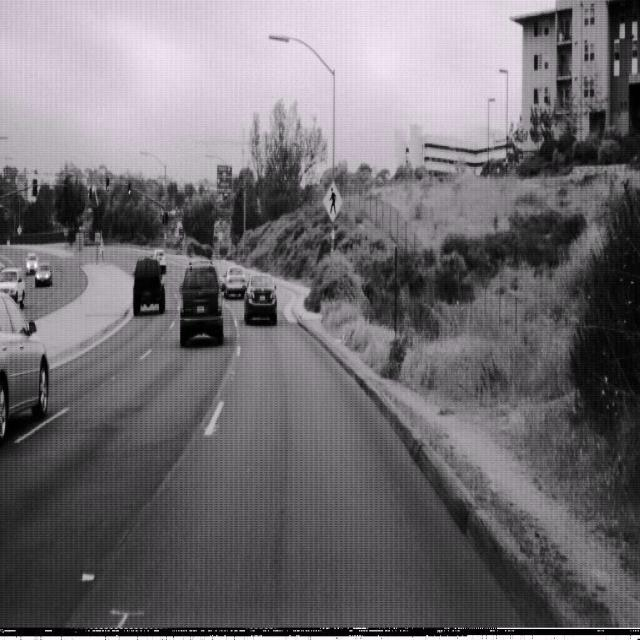pedestrianCrossing: (321, 178, 344, 223)
